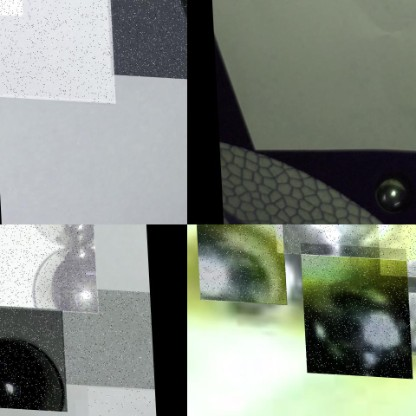ironball: (297, 239, 408, 374), (0, 0, 113, 101), (57, 283, 152, 384), (0, 224, 96, 309), (193, 224, 283, 302), (0, 302, 64, 408), (105, 0, 187, 77), (269, 224, 415, 256), (84, 383, 155, 415), (373, 224, 415, 274), (395, 281, 415, 359), (370, 178, 406, 214)
